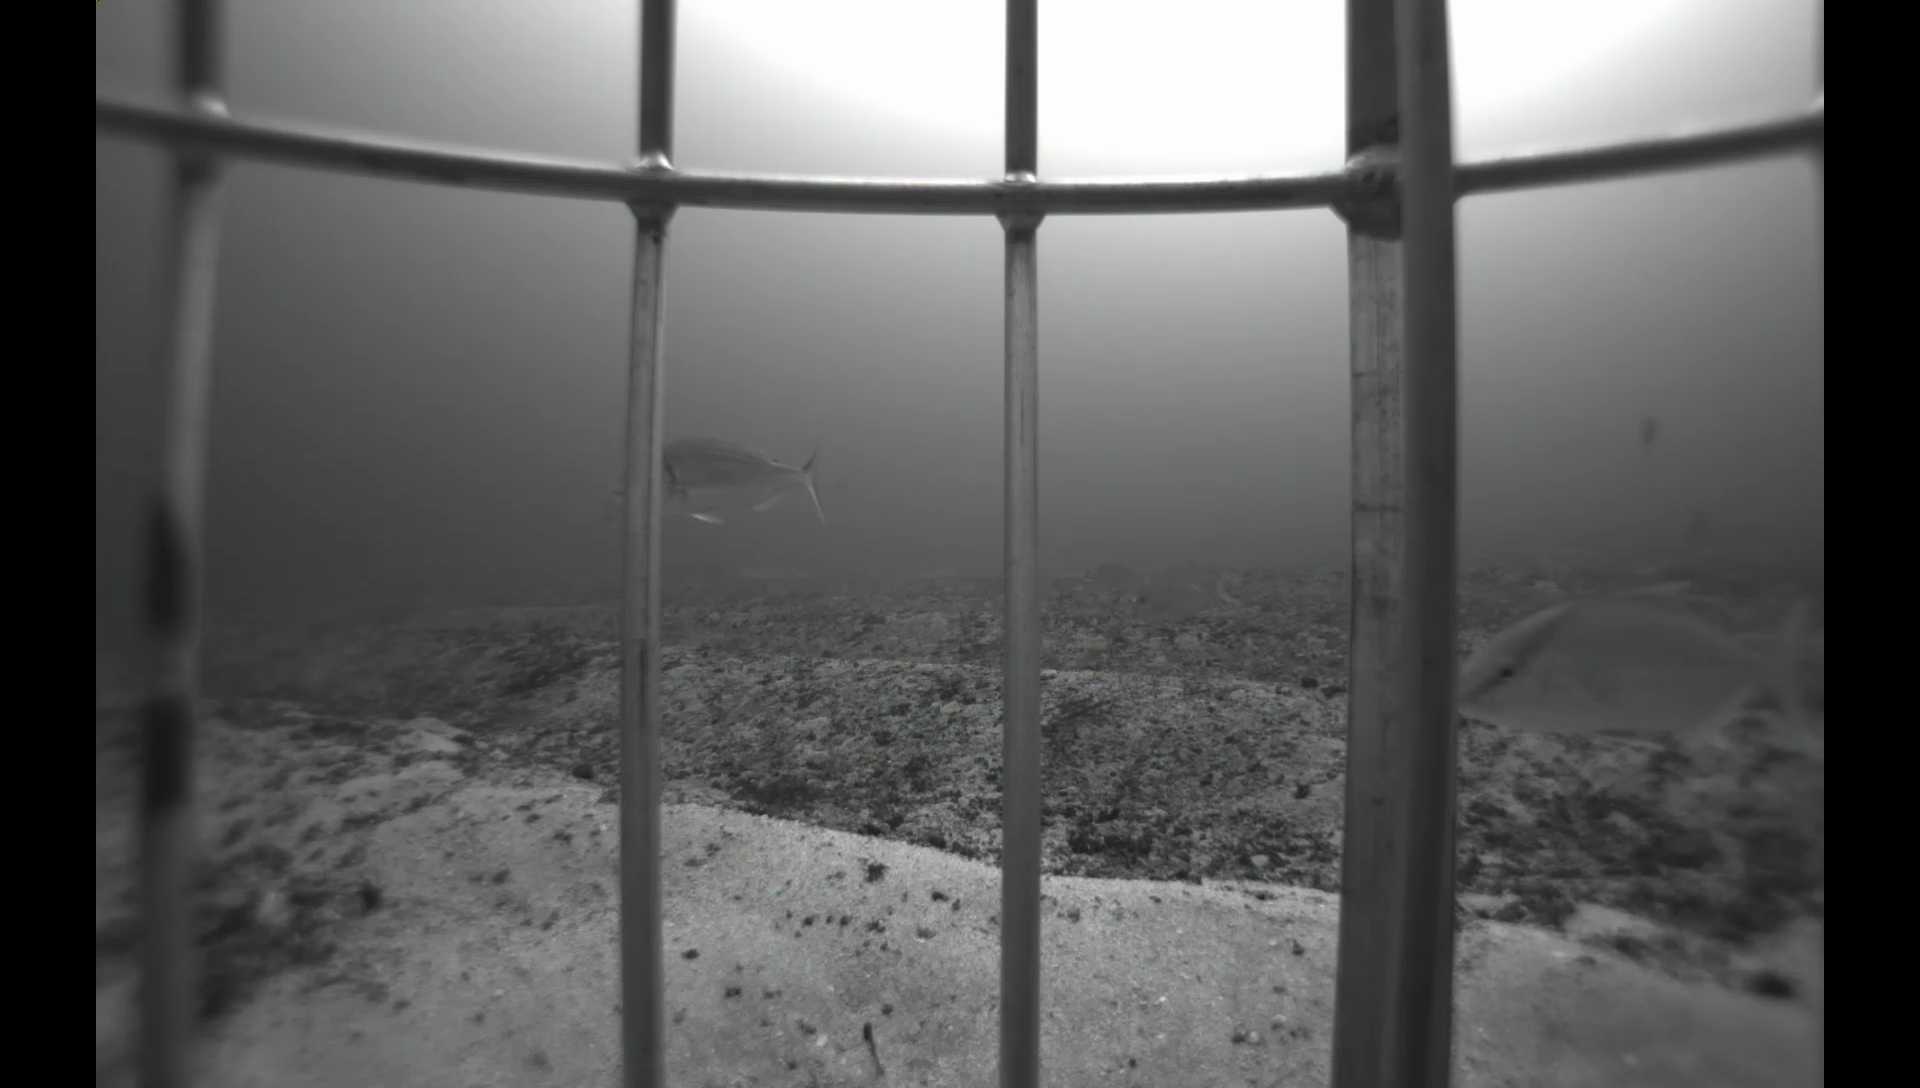CALAMUS-170210600: (1122, 563, 1240, 633), (1080, 559, 1156, 595)
EPINEPHELUSMORIO-170021211: (1668, 497, 1737, 554)
PAGRUSPAGRUS-170212302: (603, 433, 829, 531)
RHOMBOPLITESAURORUBENS-170152001: (1630, 410, 1673, 455), (828, 472, 857, 500)
SERIOLARIVOLIANA-170113105: (1460, 582, 1825, 771)
